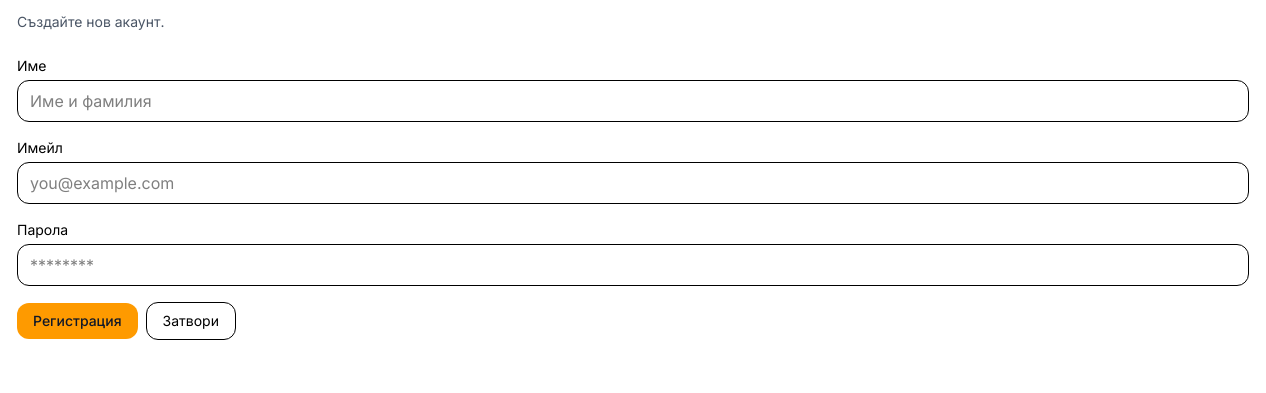
Test: AuthForm › Register Mode › should show error when name is missing
In the field labelled "Имейл": (633, 183) [17,162,1249,204], type "test@example.com"
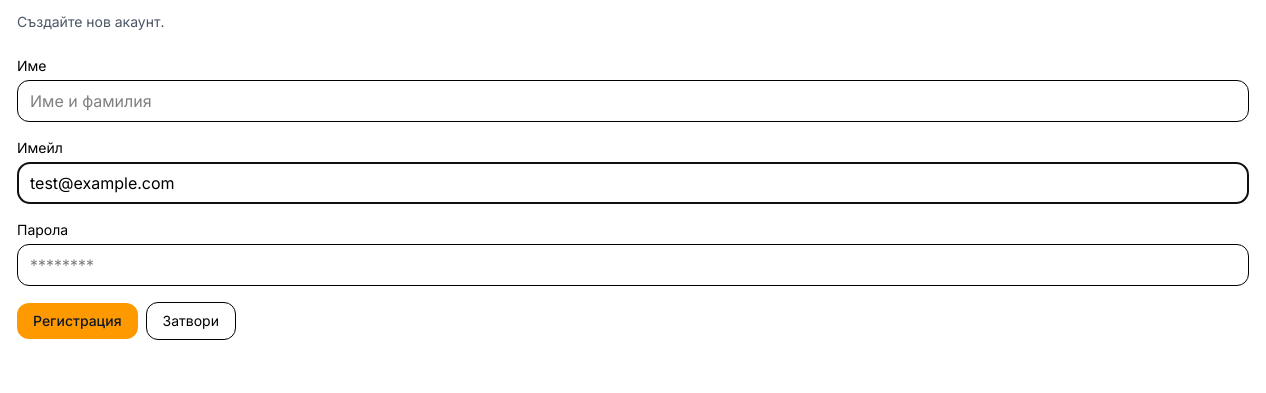
In the password field labelled "Парола": (633, 265) [17,244,1249,286], type "password123"
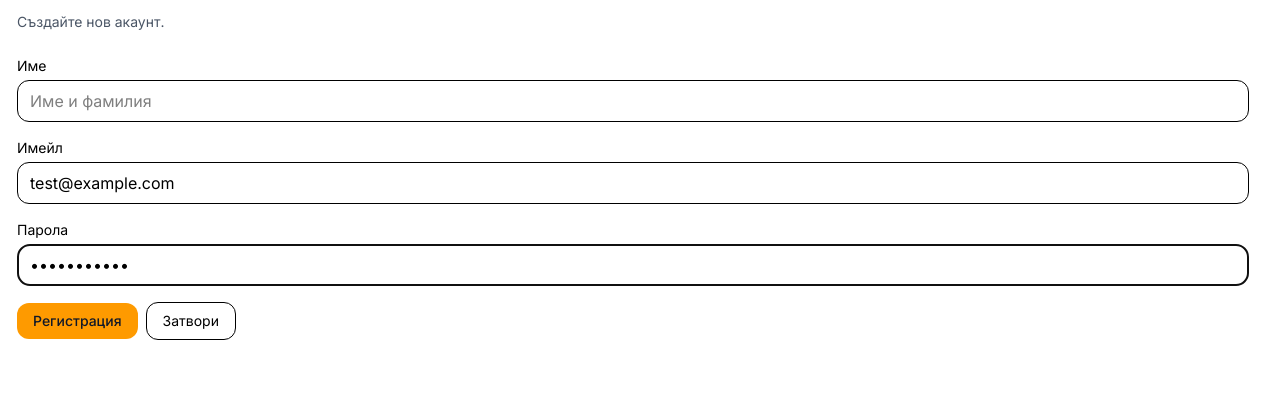
Click the button "Регистрация": (77, 321) [17,303,138,339]
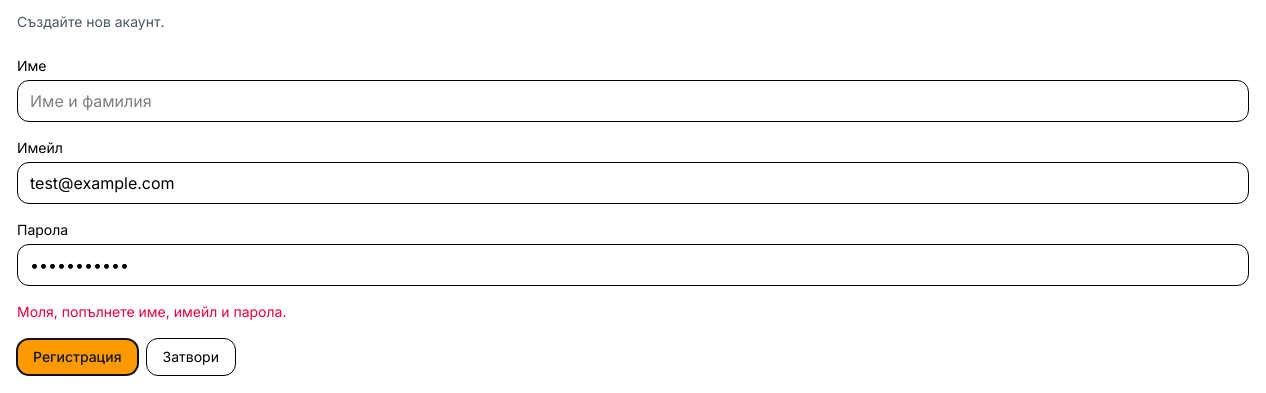
Check: the text "Моля, попълнете име, имейл и парола." is shown, box [17,303,286,320]
